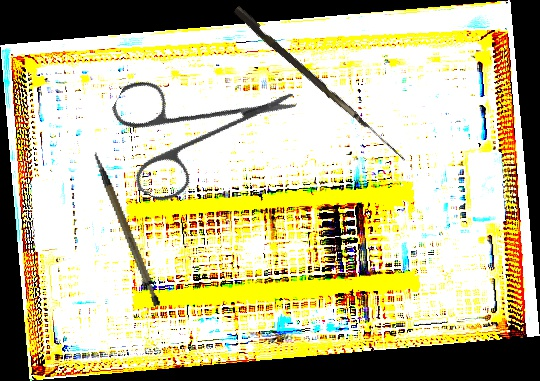Hook Surgical: (230, 5, 413, 162)
Iris Scissors: (83, 21, 301, 237)
Scalpel Handle: (92, 144, 163, 313)
